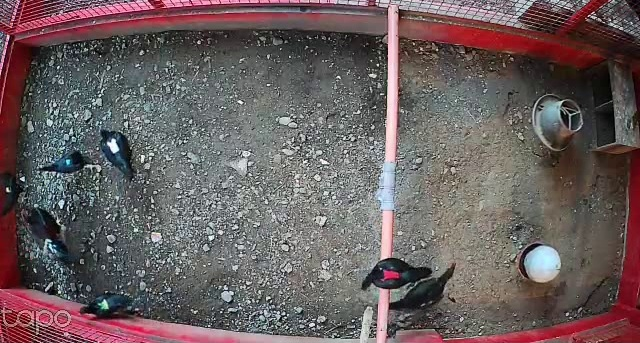Chicken: (375, 259, 461, 311), (358, 253, 432, 293), (97, 123, 137, 182), (76, 290, 143, 322), (0, 165, 31, 223), (38, 149, 100, 176)
Rooster: (18, 204, 78, 272)
Saddle_Color_Blue: (65, 158, 70, 164)
Saddle_Color_Red: (382, 266, 400, 280)
Saddle_Color_White: (106, 137, 122, 154)
Saddle_Color_Yellow: (5, 186, 12, 192)
Saddle_Color_YellowGreen: (97, 298, 110, 311)
